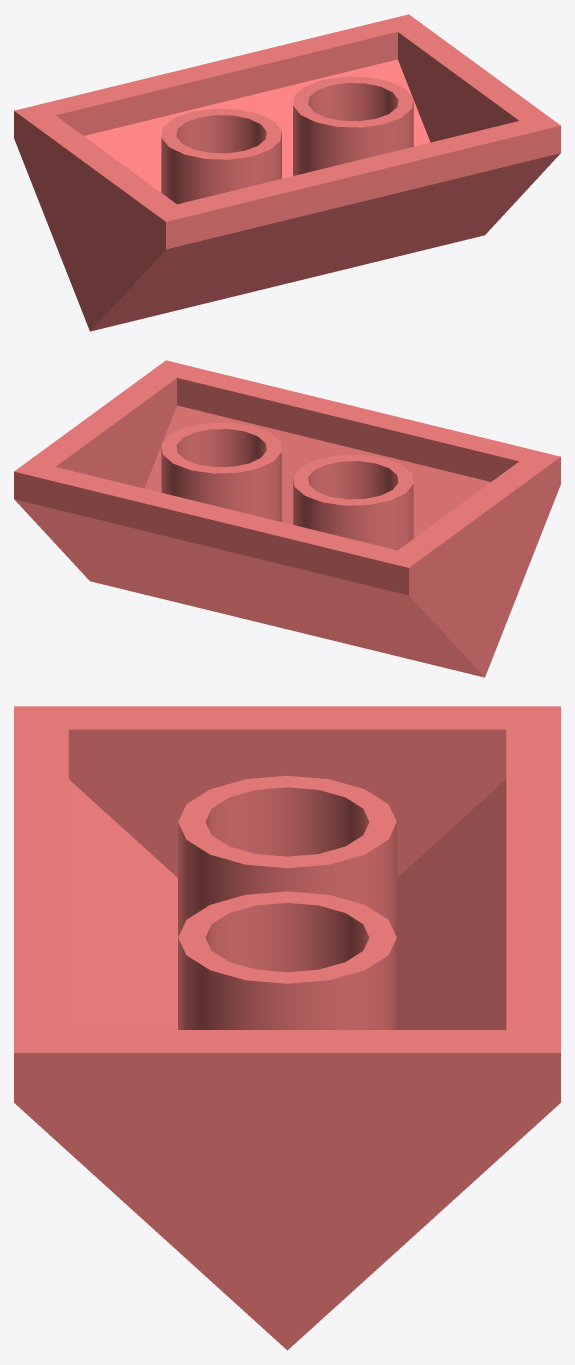
3 views of the same model, one above another, from view 1: azimuth 30°, elevation 25°; view 2: azimuth 150°, elevation 25°; view 3: azimuth 270°, elevation 25° (orthographic). The views are drawn at different scales.
Parts seen in each view (by area): view 1: LDrawPart; view 2: LDrawPart; view 3: LDrawPart.
Part boxes in pixels (x1,y1,x2,y2): LDrawPart: (14,14,560,331); LDrawPart: (14,360,560,677); LDrawPart: (14,706,560,1350).
Size of the model in its own units: 0.42 by 0.168 by 0.28.
